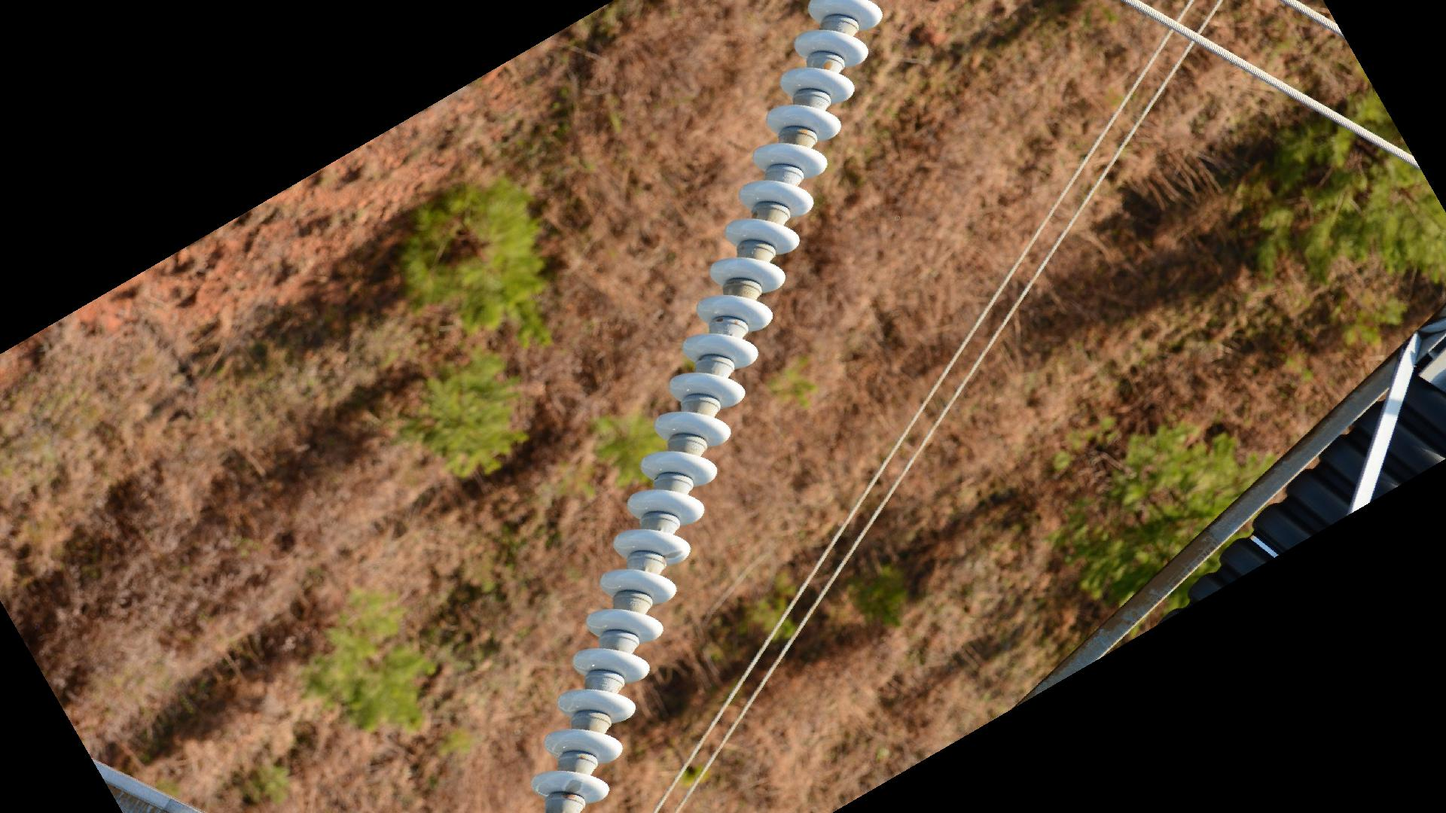insulator: (526, 1, 890, 813)
insulator_flashover: (563, 778, 584, 795), (661, 547, 685, 561)
